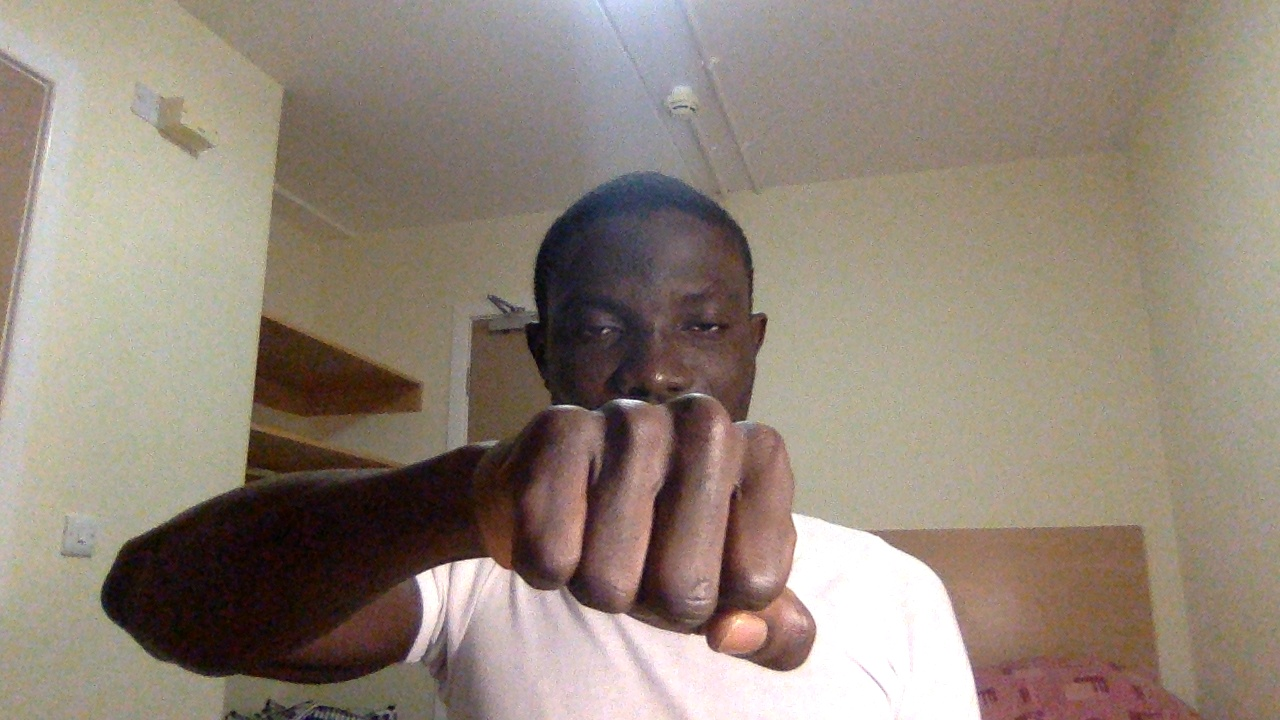Yes: (466, 390, 833, 671)
